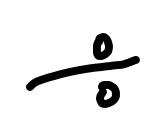div: (26, 32, 140, 108)
